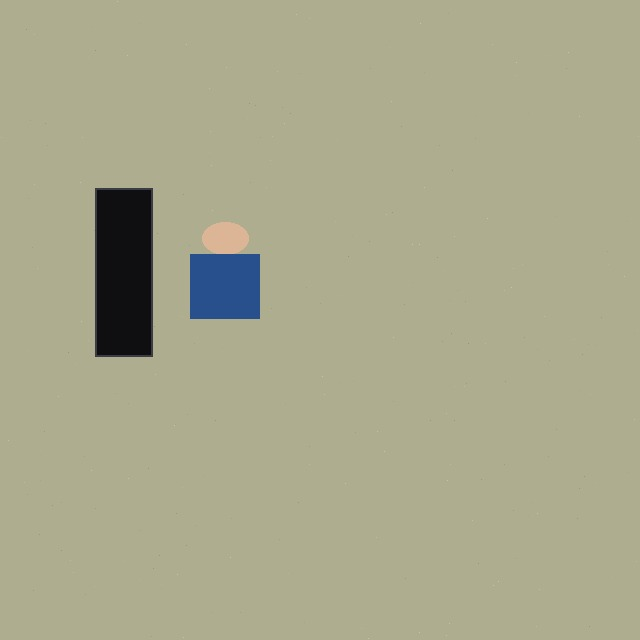person: (156, 222, 294, 318)
phone: (95, 188, 209, 356)
